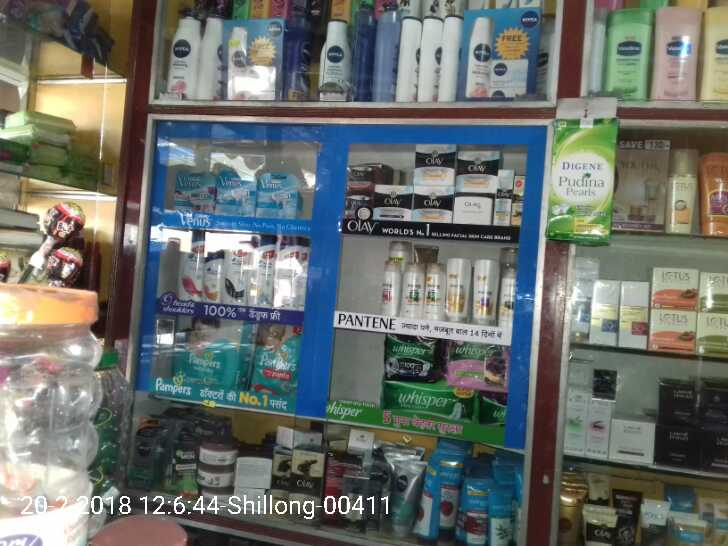venus: (255, 173, 299, 215), (214, 171, 251, 217), (176, 171, 213, 211)
